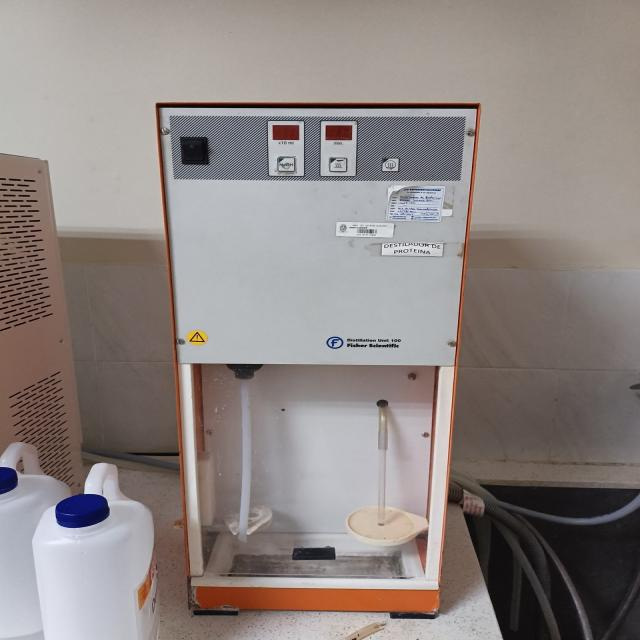Destilador por Arrastre de Vapor tipo Kjeldahl: (156, 102, 479, 618)
